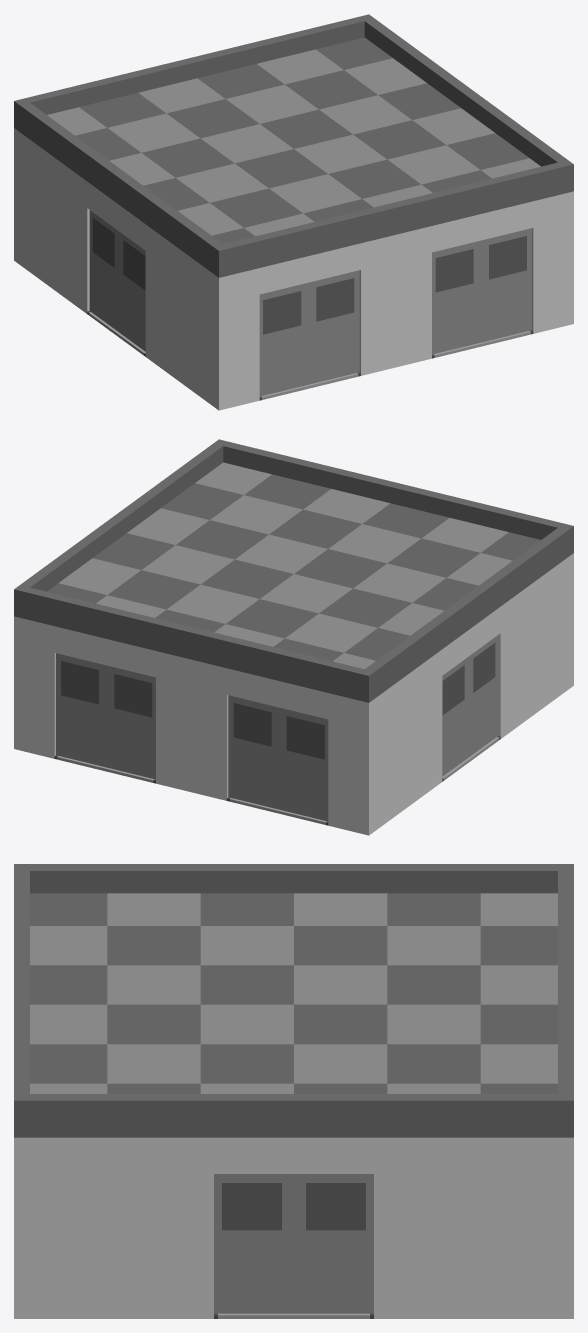
Rendered from targgerPoint.FBX.
3 renders of one model, top to bottom at view 1: azimuth 30°, elevation 25°; view 2: azimuth 150°, elevation 25°; view 3: azimuth 270°, elevation 25°, orthographic. The views are drawn at different scales.
Parts seen in each view (by area): view 1: TagerPoint00, TagerPoint01, TagerPointDoor12, TagerPointDoor10, TagerPointDoor13, TagerPointDoor11, TagerPointDoor21, TagerPointDoor20; view 2: TagerPoint00, TagerPoint01, TagerPointDoor31, TagerPointDoor33, TagerPointDoor30, TagerPointDoor32, TagerPointDoor20, TagerPointDoor21; view 3: TagerPoint00, TagerPoint01, TagerPointDoor01, TagerPointDoor00.
Part boxes in pixels (x1,y1,x2,y2): TagerPoint00: [14, 14, 573, 410]; TagerPoint01: [47, 37, 540, 244]; TagerPointDoor12: [308, 270, 359, 384]; TagerPointDoor10: [481, 228, 531, 342]; TagerPointDoor13: [259, 282, 308, 396]; TagerPointDoor11: [432, 240, 481, 354]; TagerPointDoor21: [89, 210, 118, 331]; TagerPointDoor20: [119, 231, 145, 351]; TagerPoint00: [14, 439, 573, 835]; TagerPoint01: [47, 462, 540, 669]; TagerPointDoor31: [228, 695, 279, 809]; TagerPointDoor33: [56, 653, 106, 767]; TagerPointDoor30: [279, 707, 328, 821]; TagerPointDoor32: [106, 665, 155, 779]; TagerPointDoor20: [469, 635, 498, 756]; TagerPointDoor21: [442, 656, 468, 776]; TagerPoint00: [14, 864, 573, 1318]; TagerPoint01: [30, 893, 557, 1093]; TagerPointDoor01: [214, 1174, 293, 1313]; TagerPointDoor00: [294, 1174, 373, 1313].
Size of the model in its own units: 700 by 301 by 700.
